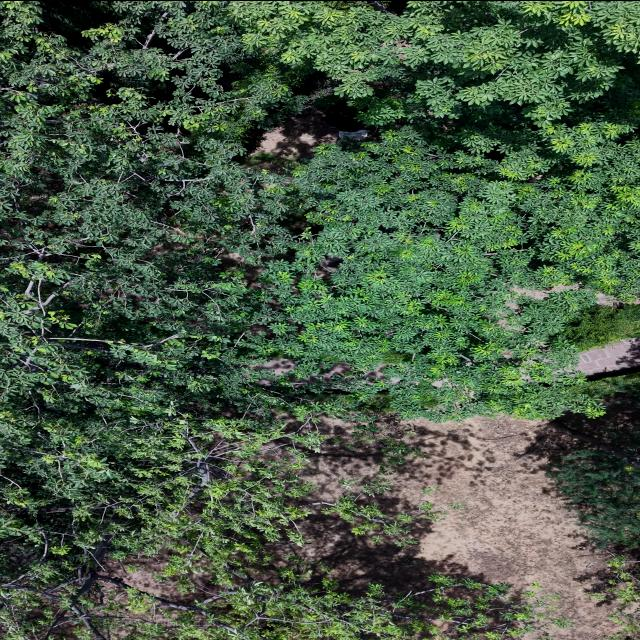DRY_AREA: (276, 415, 617, 639), (289, 415, 617, 639), (293, 416, 617, 639), (294, 416, 616, 639), (296, 416, 616, 639), (244, 71, 366, 169), (244, 104, 362, 171), (240, 103, 338, 174), (101, 548, 215, 603), (99, 550, 212, 603), (245, 107, 337, 170), (246, 107, 337, 169), (251, 106, 337, 158), (575, 337, 639, 375), (575, 337, 639, 374), (576, 337, 639, 374), (576, 338, 639, 374), (513, 284, 579, 298), (596, 292, 622, 304)
VEGETATION_TREE: (0, 1, 639, 639), (2, 2, 636, 419), (1, 419, 569, 639), (226, 1, 636, 122), (1, 557, 569, 639), (547, 373, 639, 639), (548, 420, 639, 639), (546, 373, 639, 548), (548, 420, 639, 545), (589, 554, 639, 639), (561, 304, 639, 349), (580, 371, 639, 396)
